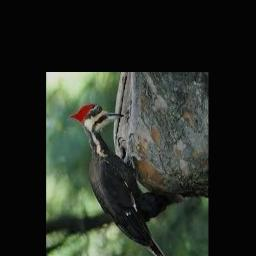Woodpecker: (70, 104, 167, 256)
